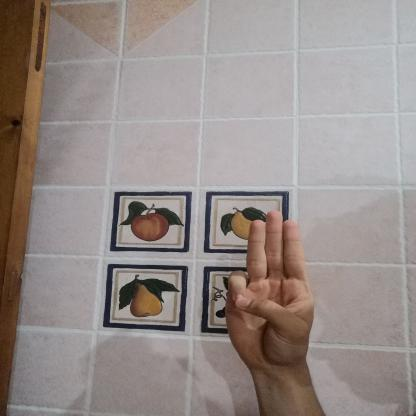THA: (212, 202, 326, 376)
